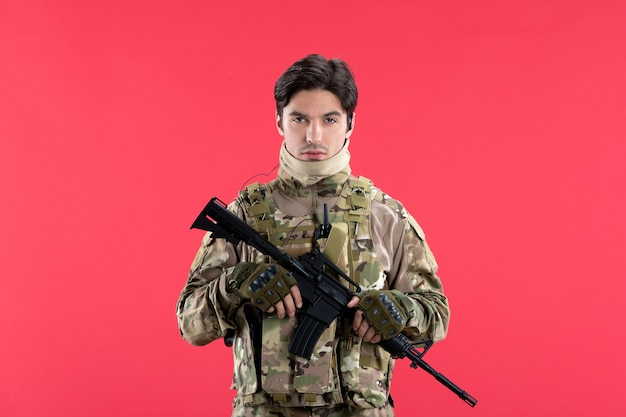gun: (187, 193, 477, 410)
